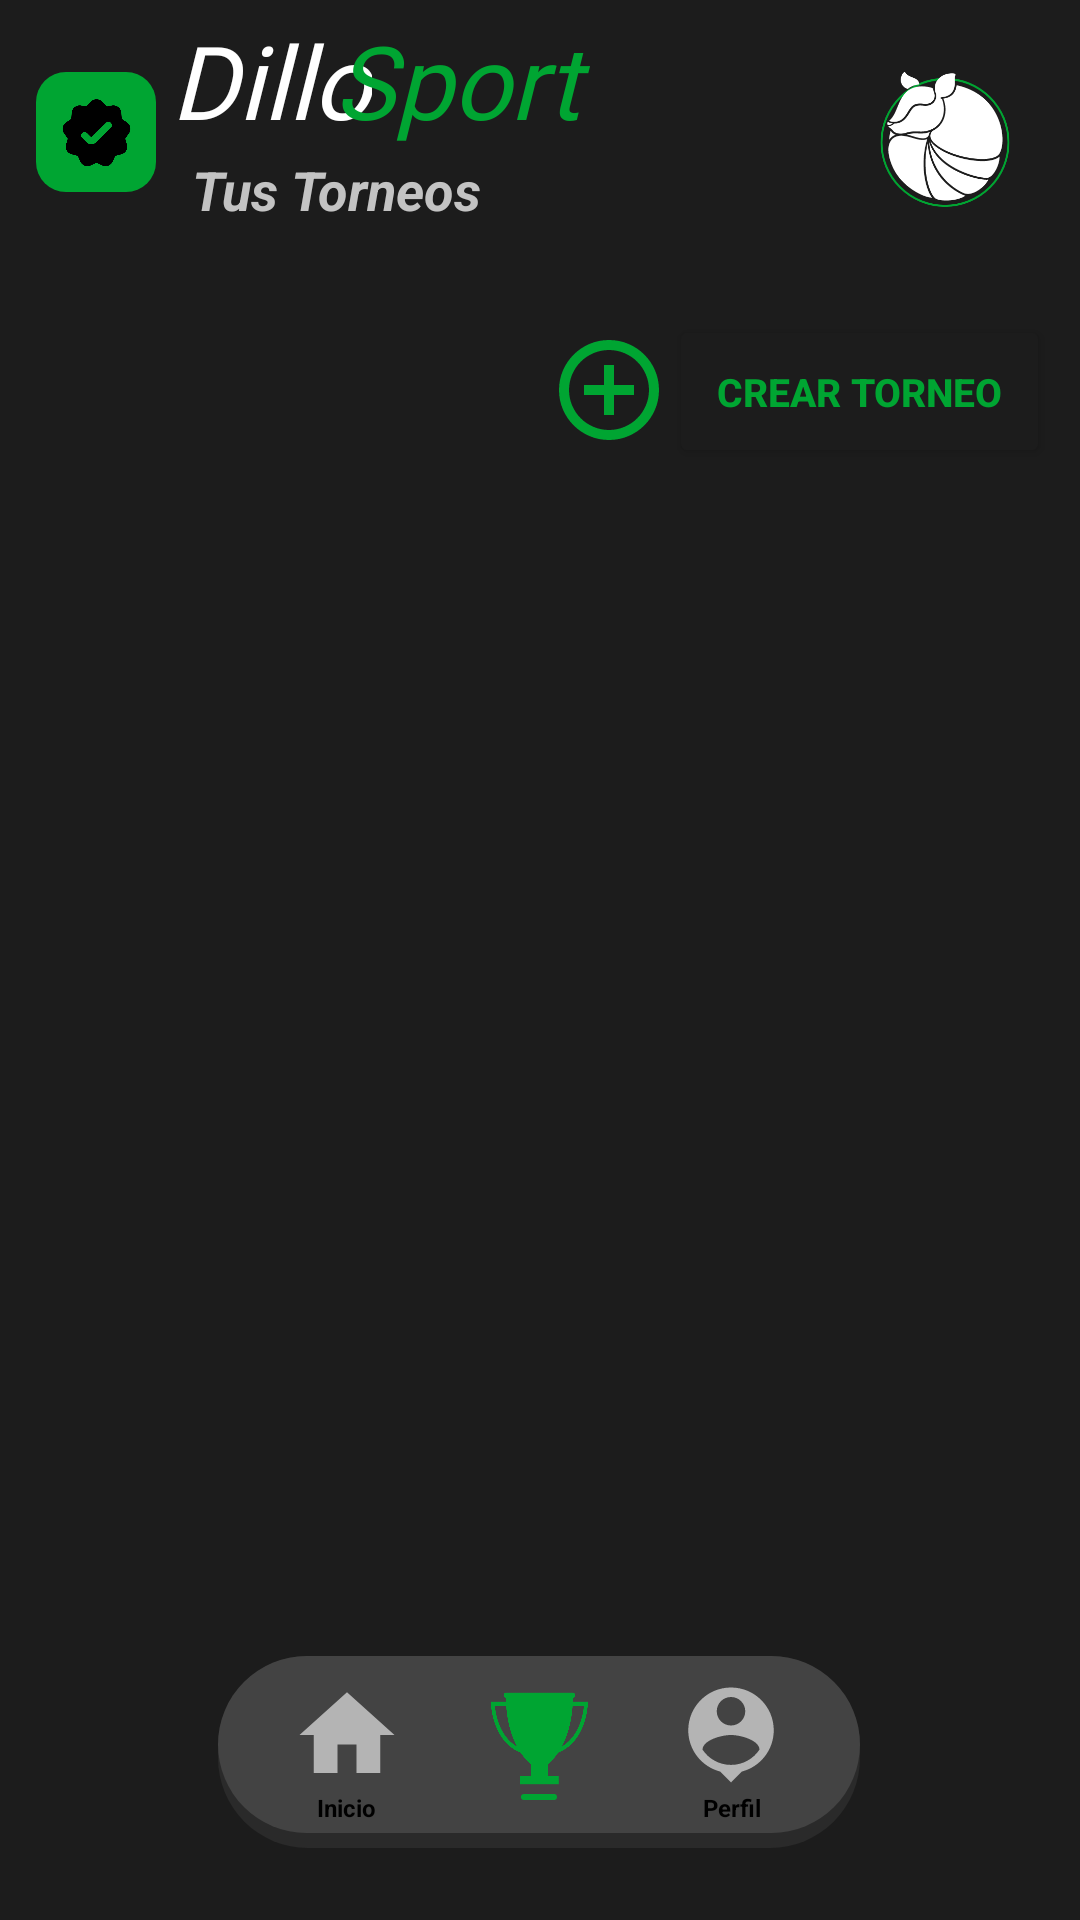

Screen size 1080 × 1920. Icon name, then its box in pixels as [x1=x1, y1=y1, x2=x2, y2=y2]:
dillo: [x1=880, y1=72, x2=1010, y2=207]
torneo: [x1=491, y1=1693, x2=588, y2=1784]
